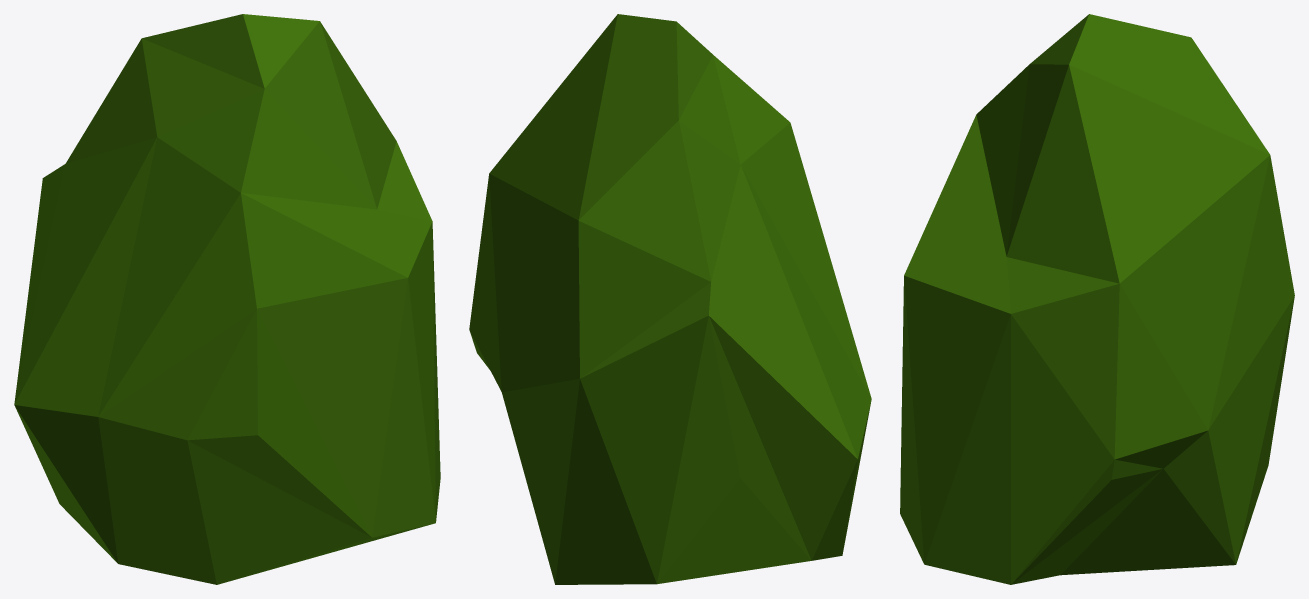
File: bush_10.FBX
The picture shows the model from 3 angles, left to right: view 1: azimuth 30°, elevation 25°; view 2: azimuth 150°, elevation 25°; view 3: azimuth 270°, elevation 25°; orthographic projection. The views are drawn at different scales.
Parts seen in each view (by area): view 1: bush_10; view 2: bush_10; view 3: bush_10.
Boxes of the visible parts, left/top/right/bottom form: bush_10: left=14, top=14, right=440, bottom=584; bush_10: left=469, top=14, right=871, bottom=584; bush_10: left=900, top=14, right=1294, bottom=584.
Bounding box in the file's own units: 282 × 361 × 237.
